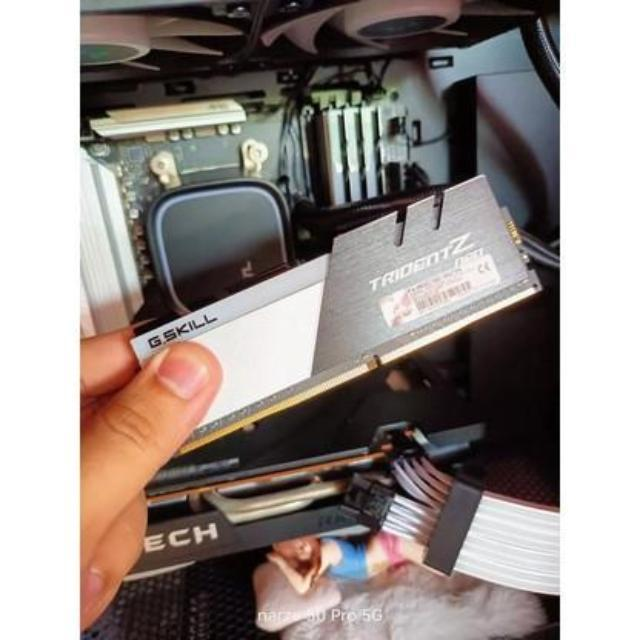RAM: (138, 180, 540, 458)
